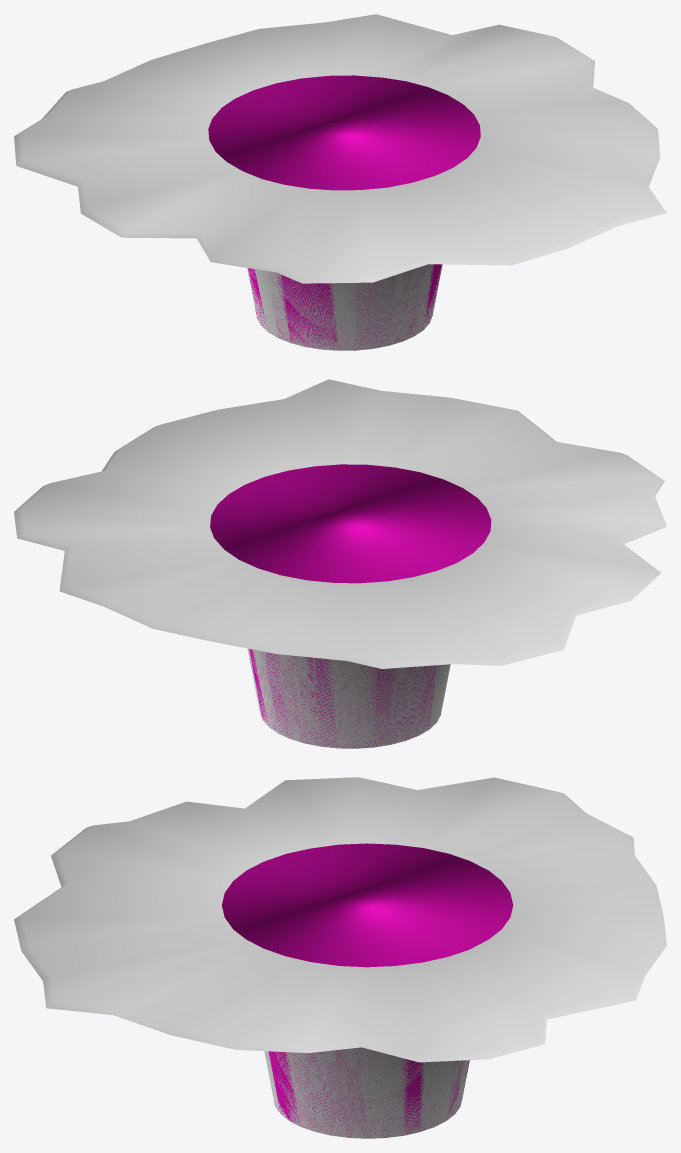
File: HoleBlend.fbx
The picture shows the model from 3 angles, top to bottom: view 1: azimuth 30°, elevation 25°; view 2: azimuth 150°, elevation 25°; view 3: azimuth 270°, elevation 25°; orthographic projection. The views are drawn at different scales.
Parts seen in each view (by area): view 1: Circle, Circle.001; view 2: Circle, Circle.001; view 3: Circle, Circle.001.
Boxes of the visible parts, x1,y1,x2,y2 form: Circle: [14, 14, 666, 350]; Circle.001: [208, 75, 480, 350]; Circle: [14, 379, 666, 748]; Circle.001: [210, 464, 491, 748]; Circle: [14, 777, 666, 1138]; Circle.001: [222, 843, 513, 1137].
Size of the model in its own units: 142 by 45.25 by 138.
